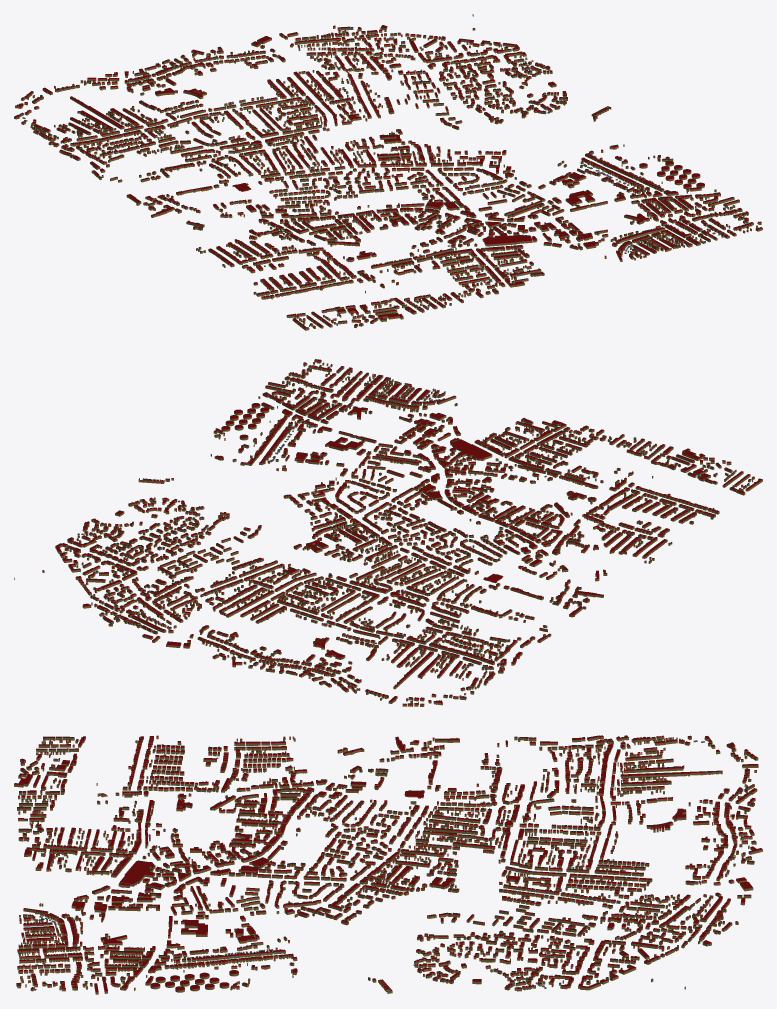
The picture shows the model from 3 angles, top to bottom: view 1: azimuth 30°, elevation 25°; view 2: azimuth 150°, elevation 25°; view 3: azimuth 270°, elevation 25°; orthographic projection. The views are drawn at different scales.
Visible parts, largest first — view 1: no part large enough to name; view 2: no part large enough to name; view 3: Building Sanderson Business Centre, Building2050.
Boxes of the visible parts, bbox=[...] form: Building Sanderson Business Centre: bbox=[119, 860, 155, 886]; Building2050: bbox=[620, 770, 722, 778].
Bounding box in the file's own units: 1716 × 7.5 × 2114.
